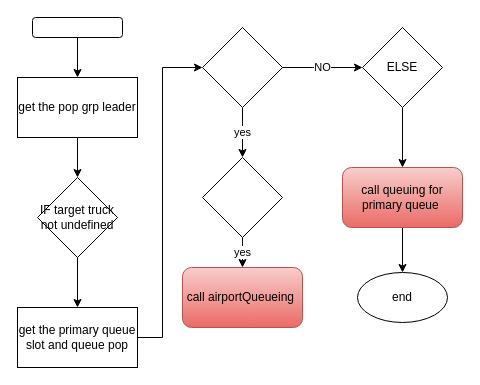
Some shapes in this 480 by 385 pixel diagram are drawn without their labels. The shapes that lost their labels are listed below. From the top down, each one's centre as x and y in pixels, then its label:
the point at 77,27: start
the point at 242,67: IF queue pop >= q slot
the point at 242,197: IF arena >= 7
